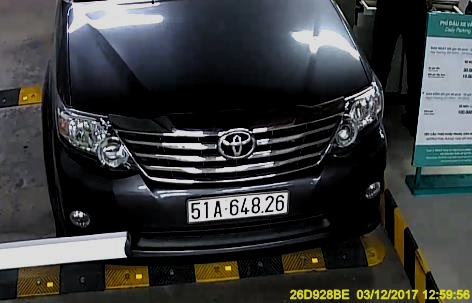plate: (184, 191, 293, 227)
